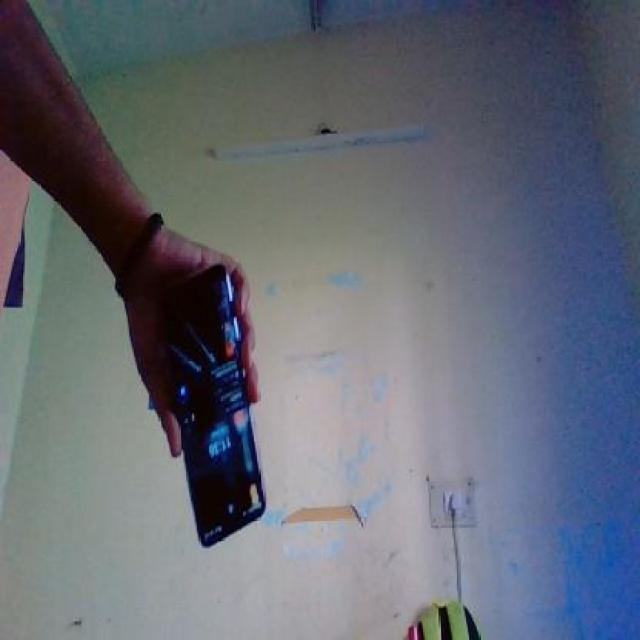Phone: (146, 261, 269, 556)
